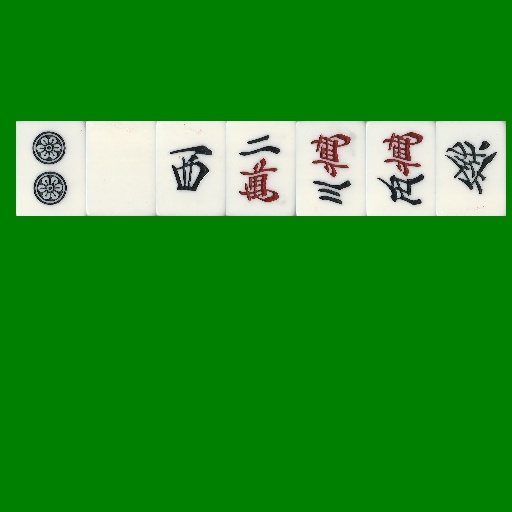2m: (226, 121, 296, 216)
2p: (16, 121, 86, 216)
3m: (296, 121, 366, 216)
5m: (366, 121, 436, 216)
hatsu: (436, 121, 506, 216)
west: (156, 121, 226, 216)
white: (86, 121, 156, 216)
